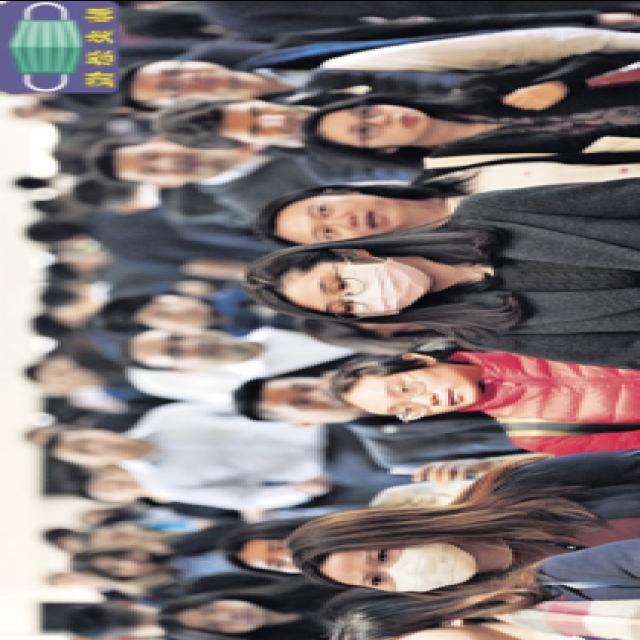mask: (308, 256, 433, 314), (350, 540, 470, 590)
no_mask: (375, 362, 475, 414), (298, 190, 402, 238), (338, 101, 426, 144), (149, 58, 235, 100), (274, 376, 360, 418), (130, 140, 217, 178), (152, 328, 238, 363), (189, 597, 265, 632), (238, 99, 304, 139), (64, 426, 131, 460), (146, 292, 208, 326), (104, 549, 156, 576)
